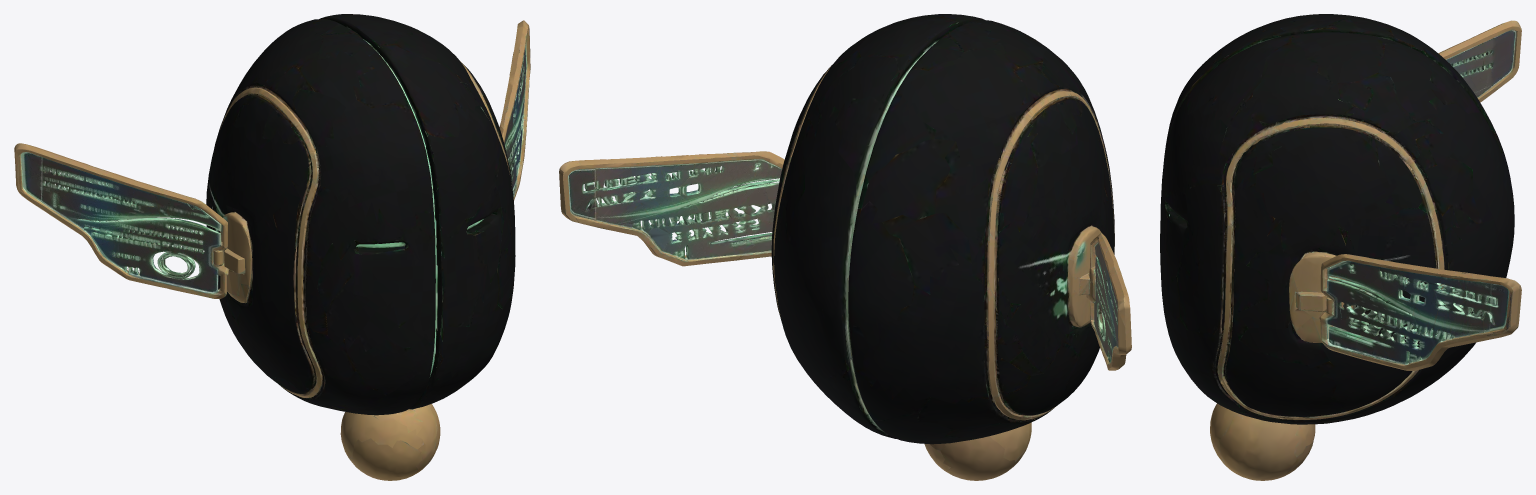
The model's file is axiom.glb.
3 renders of one model, left to right at view 1: azimuth 30°, elevation 25°; view 2: azimuth 150°, elevation 25°; view 3: azimuth 270°, elevation 25°, orthographic. The views are drawn at different scales.
Parts seen in each view (by area): view 1: mesh_node; view 2: mesh_node; view 3: mesh_node.
Part boxes in pixels (x1,y1,x2,y2): mesh_node: (14,14,530,480); mesh_node: (559,14,1131,480); mesh_node: (1160,14,1521,480).
Bounding box in the file's own units: 1.9 × 1.49 × 1.1.
Materials: 1 (1 with a texture image).
